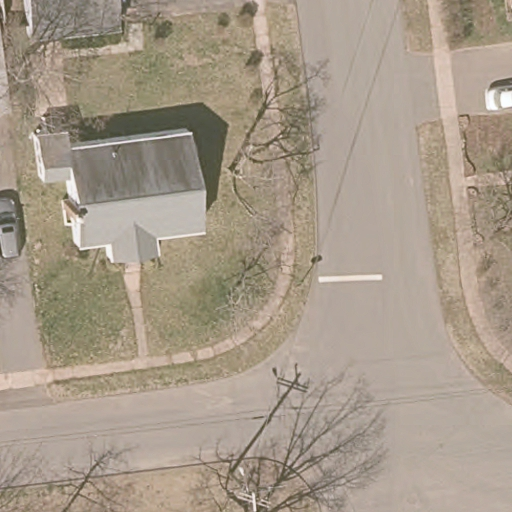DT: (227, 464, 271, 512)
